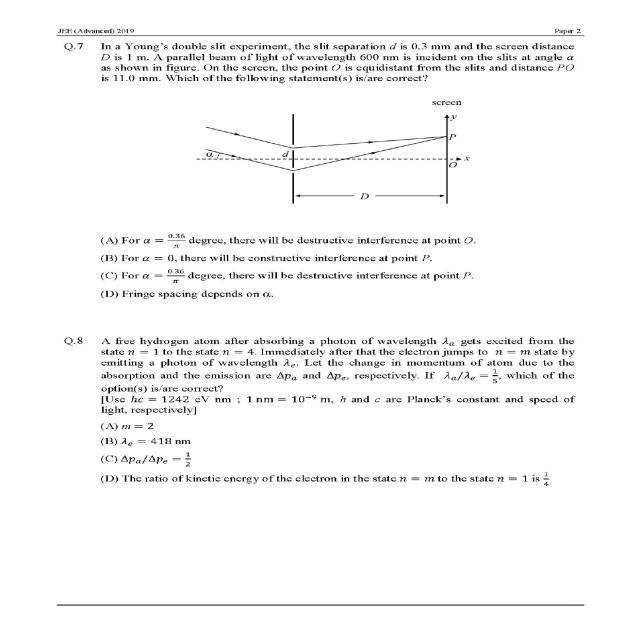Answer_Block: (36, 219, 590, 317), (36, 419, 590, 502)
Question_Answer_Block: (36, 38, 590, 318), (36, 330, 590, 503)
Question_Block: (36, 37, 590, 223), (36, 329, 590, 421)
Question_Paper_Area: (36, 37, 590, 590)
